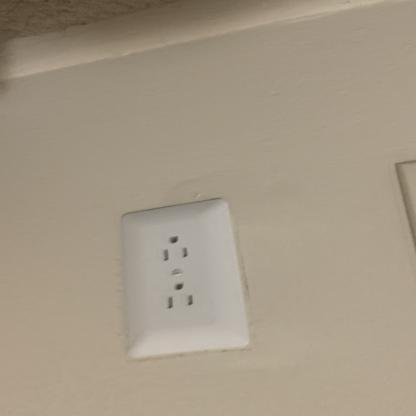OUTLET: (122, 196, 242, 360)
